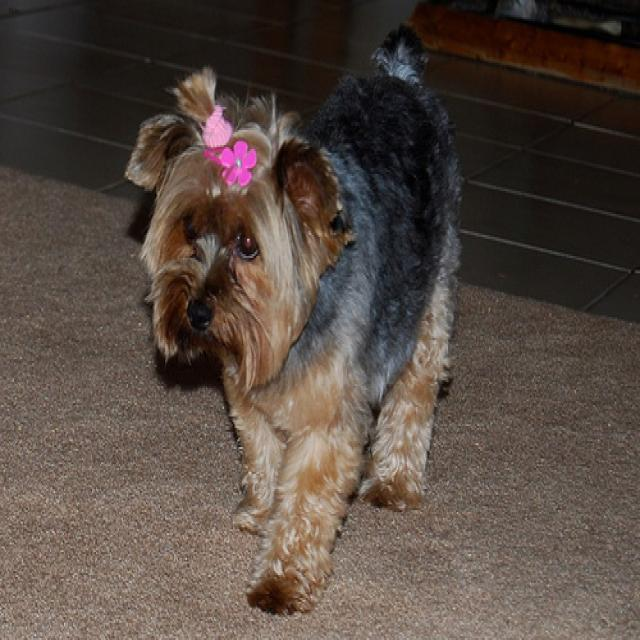dog-yorkshire_terrier: (115, 8, 468, 623)
